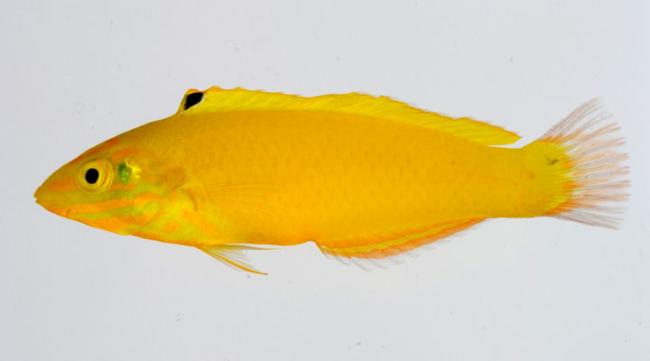fish: (34, 84, 632, 278)
